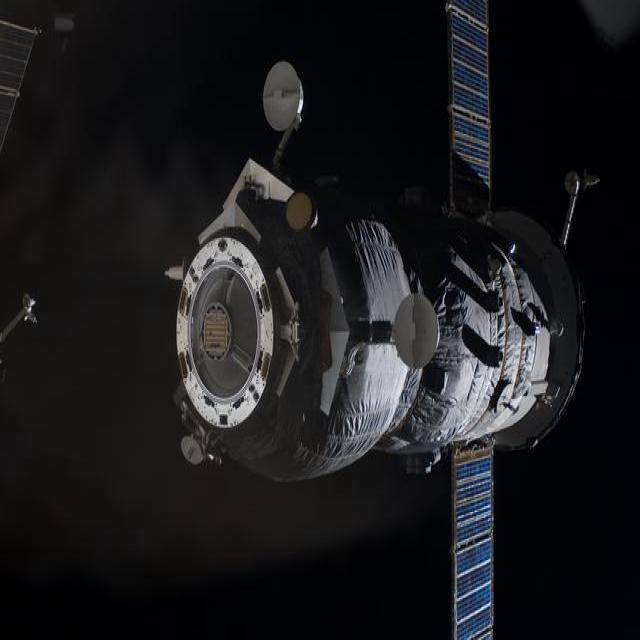medium_debris: (162, 18, 599, 609)
